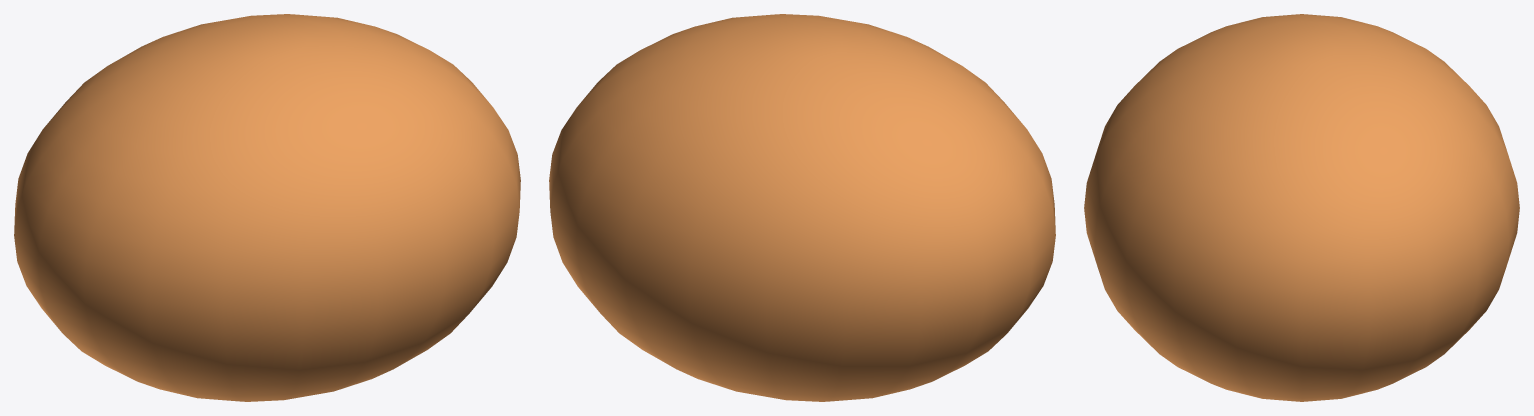
The model's file is armpiece.fbx.
3 renders of one model, left to right at view 1: azimuth 30°, elevation 25°; view 2: azimuth 150°, elevation 25°; view 3: azimuth 270°, elevation 25°, orthographic. The views are drawn at different scales.
Visible parts, largest first — view 1: pSphere3; view 2: pSphere3; view 3: pSphere3.
Boxes of the visible parts, <box> form: pSphere3: <box>14,14,520,401</box>; pSphere3: <box>549,14,1055,401</box>; pSphere3: <box>1084,14,1519,401</box>.
Size of the model in its own units: 1.21 by 0.8371 by 1.03.
